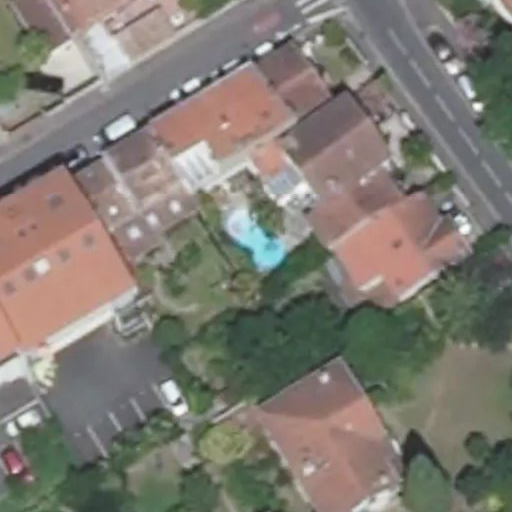pool: (221, 222, 287, 265)
